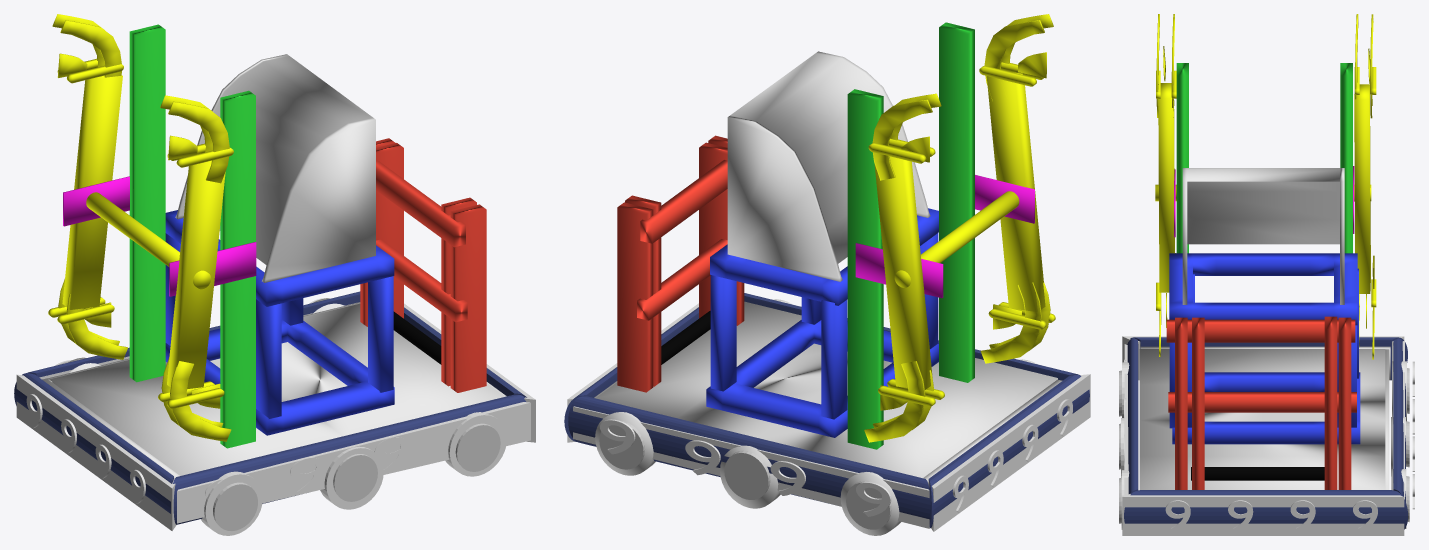
The model's file is Chassis.dae.
3 views of the same model, side by side, from view 1: azimuth 30°, elevation 25°; view 2: azimuth 150°, elevation 25°; view 3: azimuth 270°, elevation 25° (orthographic). The views are drawn at different scales.
Parts seen in each view (by area): view 1: Plane.003, Circle.005, ChassisBeams, Plane.004, Cube.007, Cube.004, BumperBeamsRight, Cube.016, BumperBeamsBack, BumperRight, Circle.003, BumperBack (+17 smaller); view 2: Plane.003, Circle.005, ChassisBeams, Plane.004, Cube.004, Cube.007, BumperLeft, Cube.017, BumperBeamsBack, BumperBeamsLeft, Circle.003, BumperBack (+16 smaller); view 3: ChassisBeams, Plane.004, Circle.005, Plane.003, BumperBeamsFront, BumperFront, Cube.019, Cube.018, Cube.015, Cube.017, Cube.014, Cube.016 (+12 smaller).
Part boxes in pixels (box(x1,y1,x2,y2)): Plane.003: box(48, 14, 233, 441); Circle.005: box(175, 54, 375, 282); ChassisBeams: box(49, 303, 504, 475); Plane.004: box(165, 210, 394, 435); Cube.007: box(129, 24, 165, 382); Cube.004: box(220, 90, 255, 448); BumperBeamsRight: box(177, 402, 530, 523); Cube.016: box(450, 204, 486, 392); BumperBeamsBack: box(16, 374, 176, 530); BumperRight: box(173, 394, 525, 524); Circle.003: box(63, 176, 256, 296); BumperBack: box(14, 373, 173, 513); Plane.003: box(864, 14, 1055, 442); Circle.005: box(727, 51, 930, 281); ChassisBeams: box(595, 301, 1057, 477); Plane.004: box(706, 208, 938, 437); Cube.004: box(939, 22, 974, 382); Cube.007: box(847, 89, 883, 449); BumperLeft: box(568, 396, 930, 523); Cube.017: box(617, 202, 653, 392); BumperBeamsBack: box(928, 374, 1090, 531); BumperBeamsLeft: box(573, 406, 929, 528); Circle.003: box(855, 175, 1034, 298); BumperBack: box(928, 375, 1089, 528); ChassisBeams: box(1139, 349, 1385, 489); Plane.004: box(1169, 253, 1360, 444); Circle.005: box(1182, 168, 1344, 304); Plane.003: box(1155, 14, 1376, 359); BumperBeamsFront: box(1122, 494, 1404, 535); BumperFront: box(1124, 490, 1407, 529); Cube.019: box(1166, 319, 1355, 342); Cube.018: box(1168, 392, 1356, 412); Cube.015: box(1324, 316, 1337, 489); Cube.017: box(1338, 317, 1351, 489); Cube.014: box(1192, 317, 1204, 489); Cube.016: box(1175, 317, 1187, 489).
Bounding box in the file's own units: 2.33 × 1.77 × 2.59.
